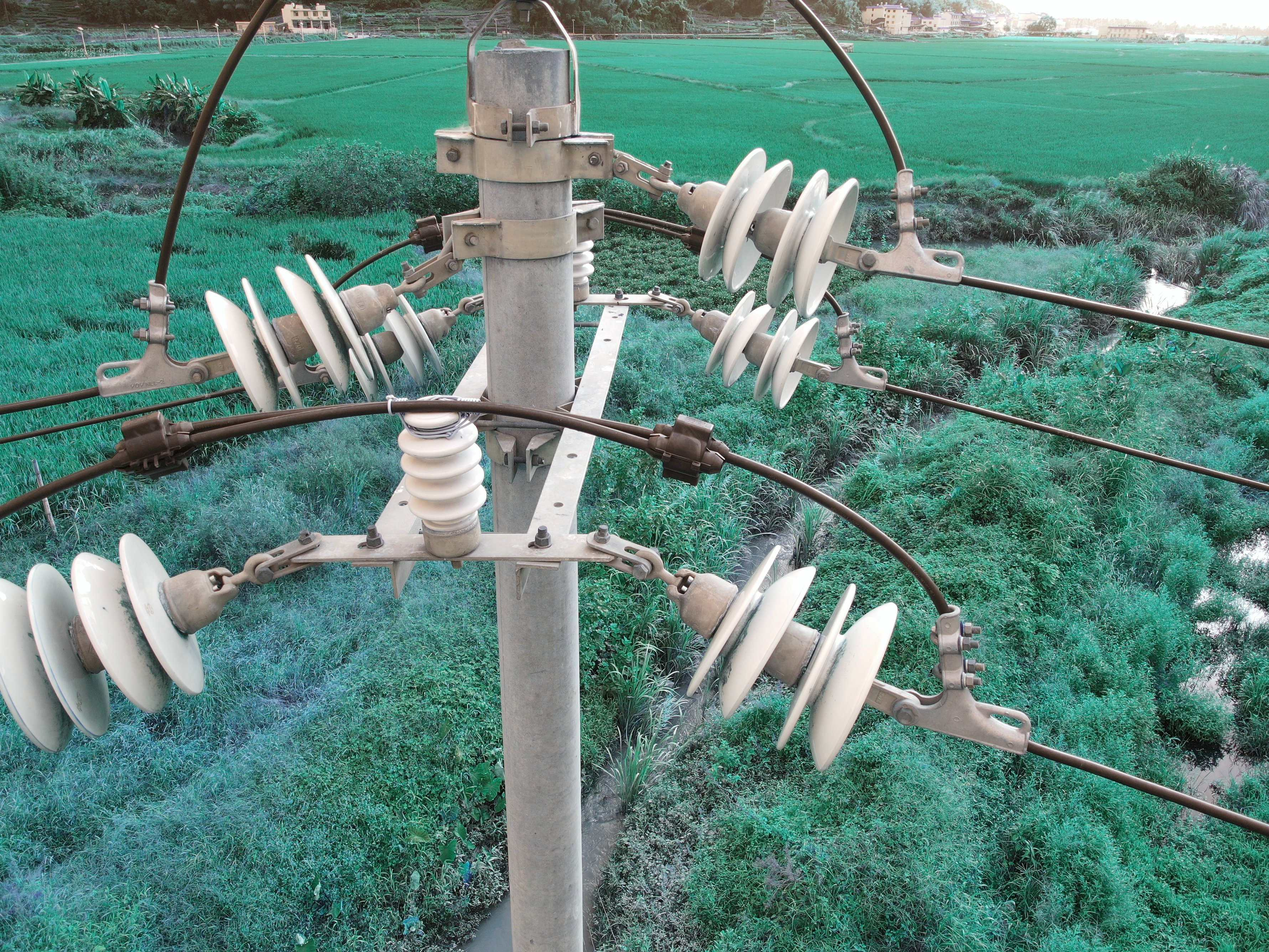severe_soiling_no_discharge_whole: (204, 255, 389, 406)
